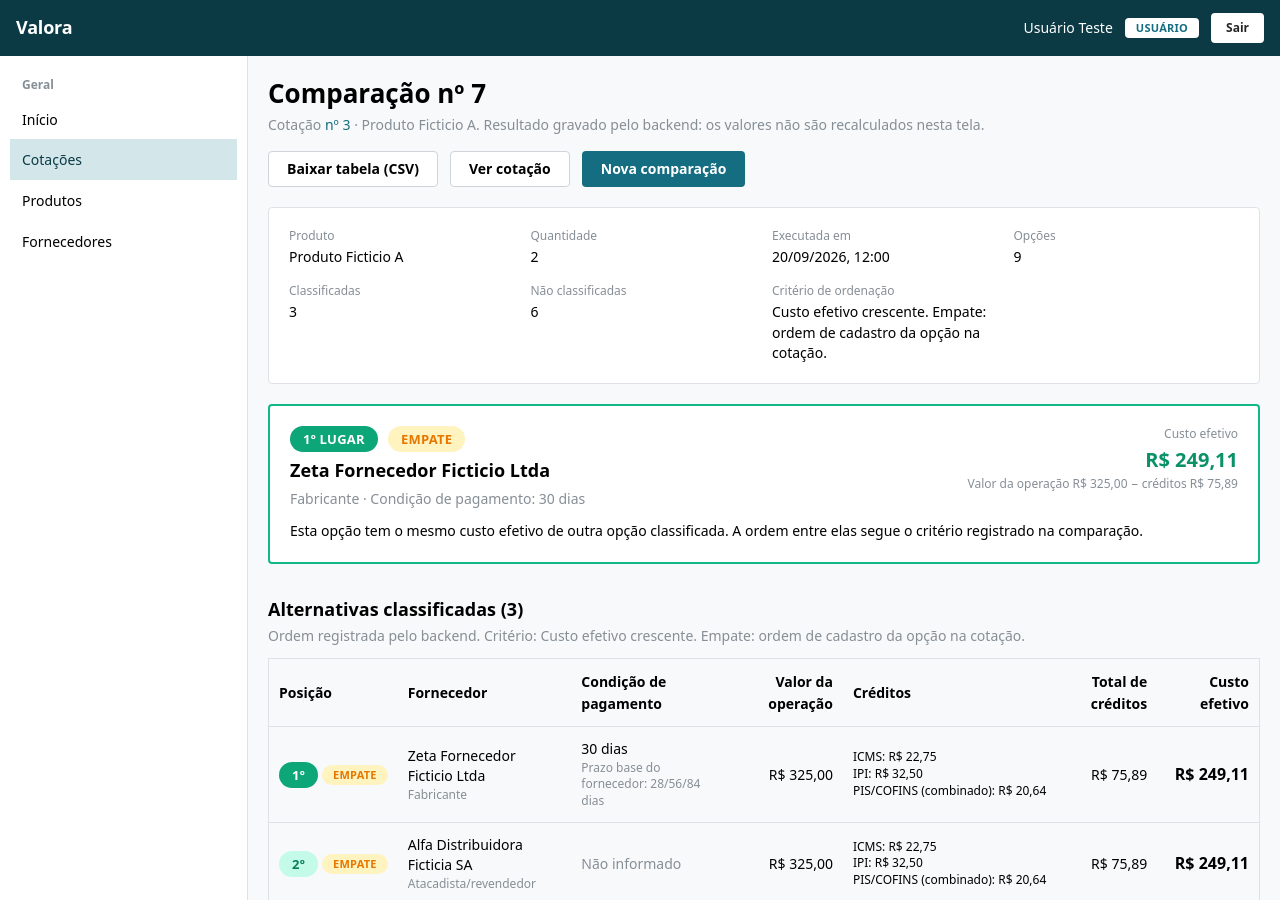
Scenario: ComparacaoPage — nova comparação › confirma, cria uma nova comparação e abre o novo resultado
The width and height of the screenshot is (1280, 900).
Click the button "Nova comparação" at point(664, 169), box [582,151,745,187]
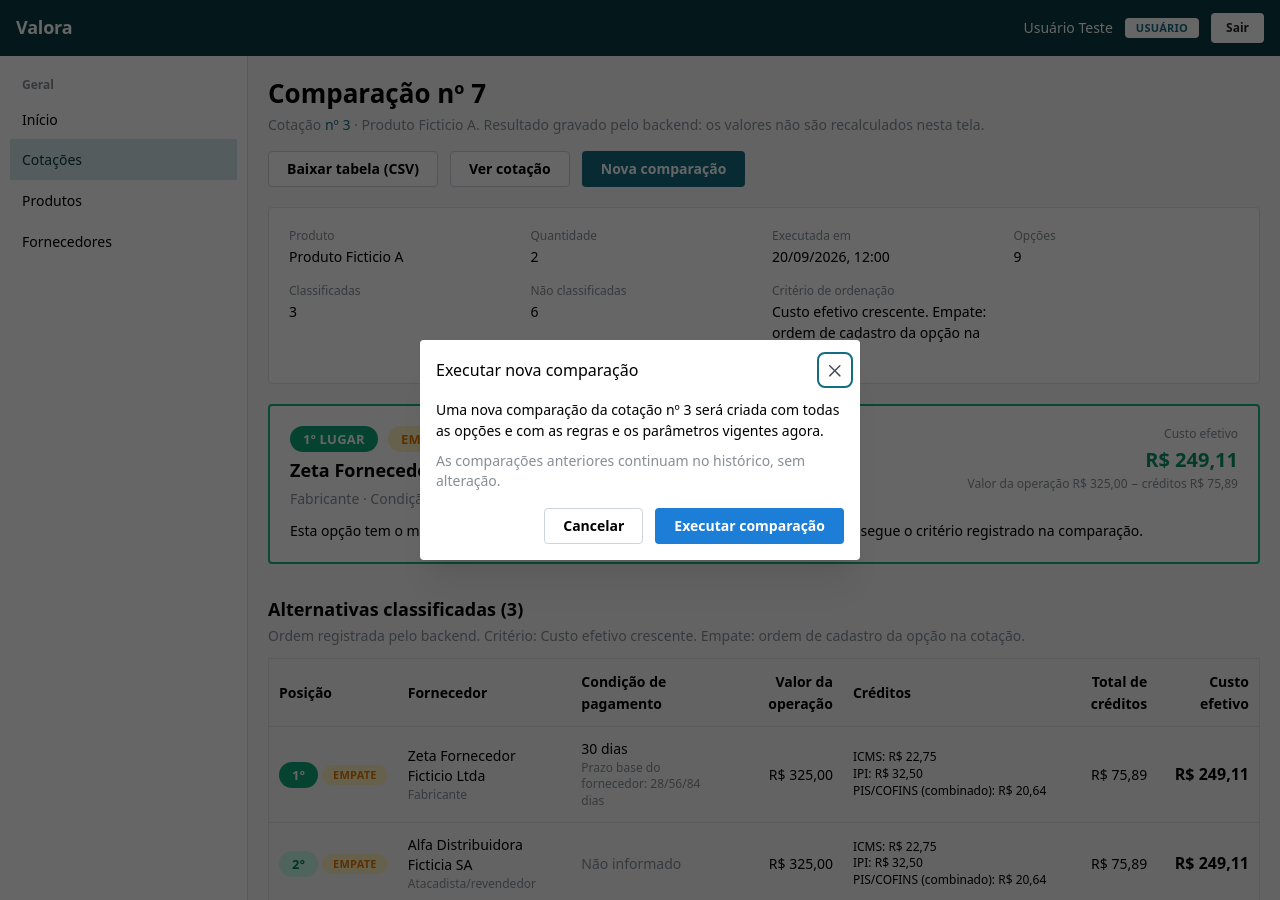
expect the dialog "Executar nova comparação" shows "Uma nova comparação da cotação nº 3 será criada": met, box [436,400,839,440]
expect the dialog "Executar nova comparação" shows "As comparações anteriores continuam no histórico": met, box [436,451,805,490]
Click the button "Executar comparação" at point(750, 526), box [655,508,844,544]
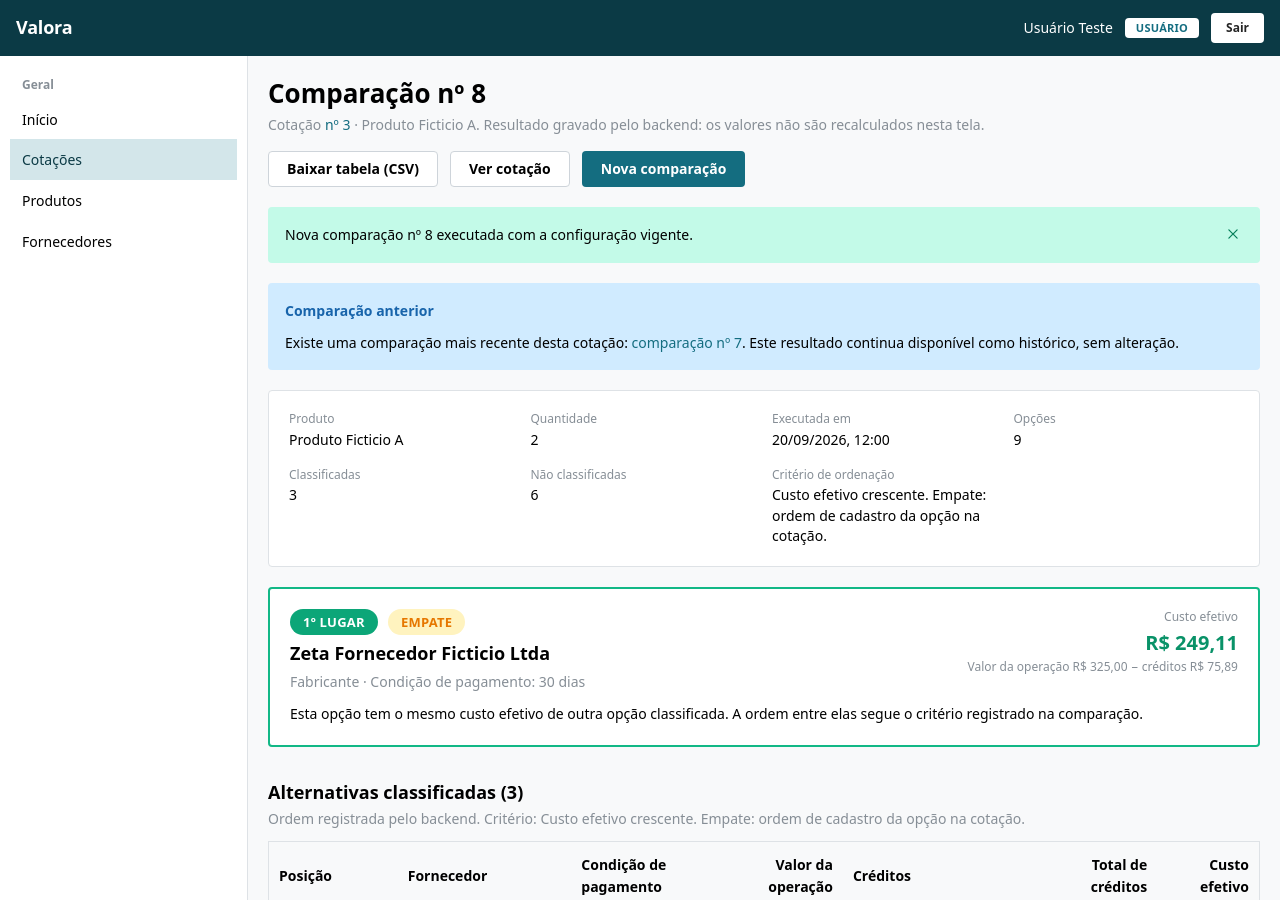
expect the heading "Comparação nº 8" is shown: met, box [268,75,486,111]
expect the message "Nova comparação nº 8 executada com a configuração vigente." is shown: met, box [268,207,1260,263]
